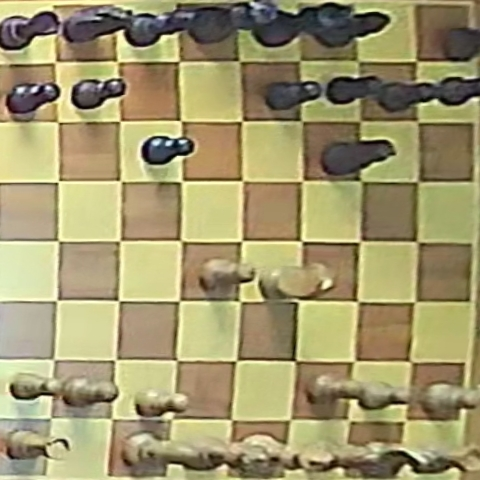black-bishop: (310, 8, 395, 48), (125, 10, 191, 47)
black-king: (247, 2, 354, 48)
black-knight: (64, 5, 135, 45), (320, 139, 395, 176)
black-pawn: (380, 78, 440, 113), (6, 82, 60, 119), (71, 78, 126, 110), (327, 75, 384, 105), (266, 81, 321, 110), (436, 76, 480, 112), (142, 136, 193, 165)
black-queen: (187, 0, 279, 43)
black-rook: (0, 11, 60, 51), (444, 27, 480, 61)
white-bishop: (123, 431, 211, 475), (312, 437, 385, 480)
white-king: (238, 432, 336, 477)
white-knight: (257, 263, 334, 299), (360, 444, 437, 480)
white-pawn: (420, 382, 477, 419), (198, 258, 255, 292), (61, 376, 119, 408), (307, 374, 367, 404), (354, 379, 407, 409), (135, 388, 189, 417), (9, 372, 62, 401)
white-queen: (176, 437, 269, 475)
white-rook: (3, 430, 70, 461), (422, 443, 480, 472)
